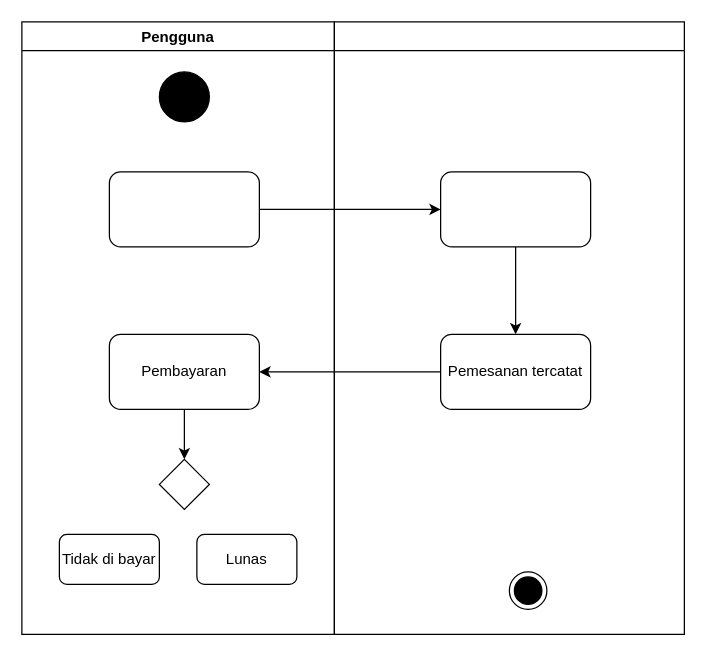
Image size: 706x656. Some labels were removed from this diagram. The box of each missing label's shape, as (x1, y1, x2, y2) in pixels:
Memeriksa ketersediaan slot: (439, 171, 591, 247)
Memesan lapangan: (108, 171, 259, 247)
Sistem: (333, 21, 684, 634)
